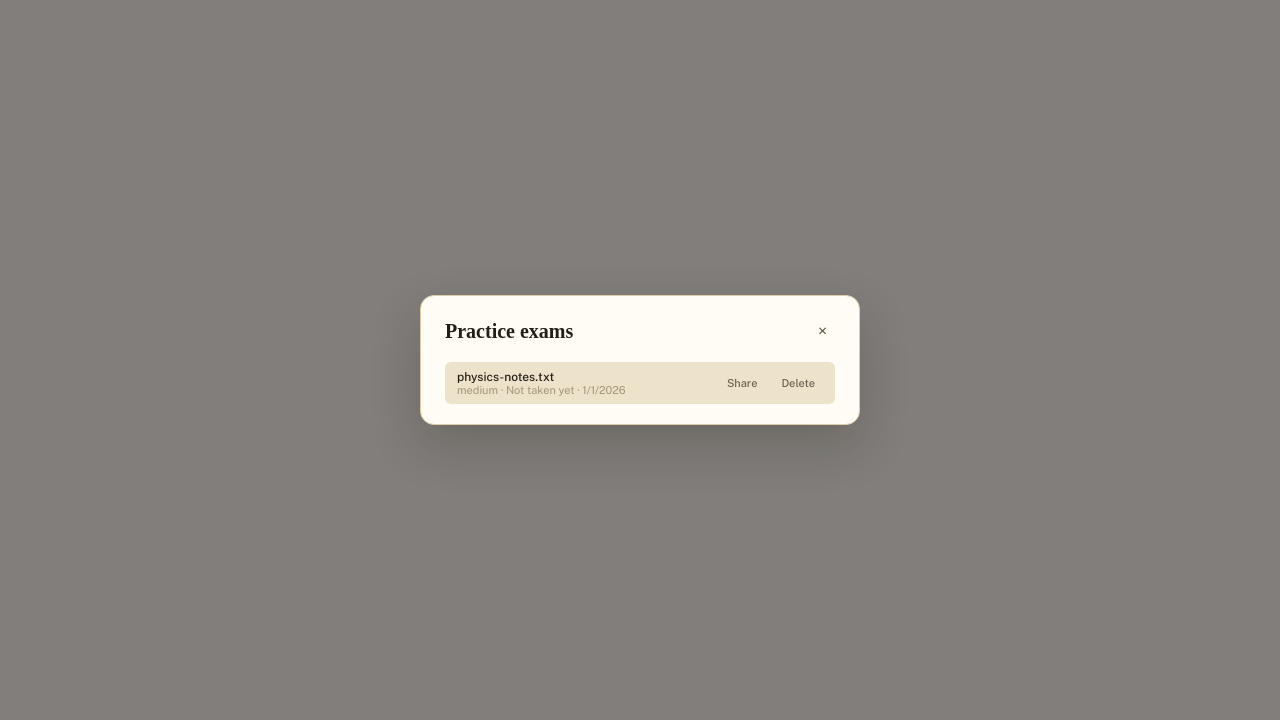
Scenario: PracticeExamsPanel › deleting an exam from the list removes it
Expected: the text "physics-notes.txt" is shown, [457,370,554,384]
Click the button with aria-label "delete exam: physics-notes.txt".
click(798, 383)  # box [773,373,823,393]
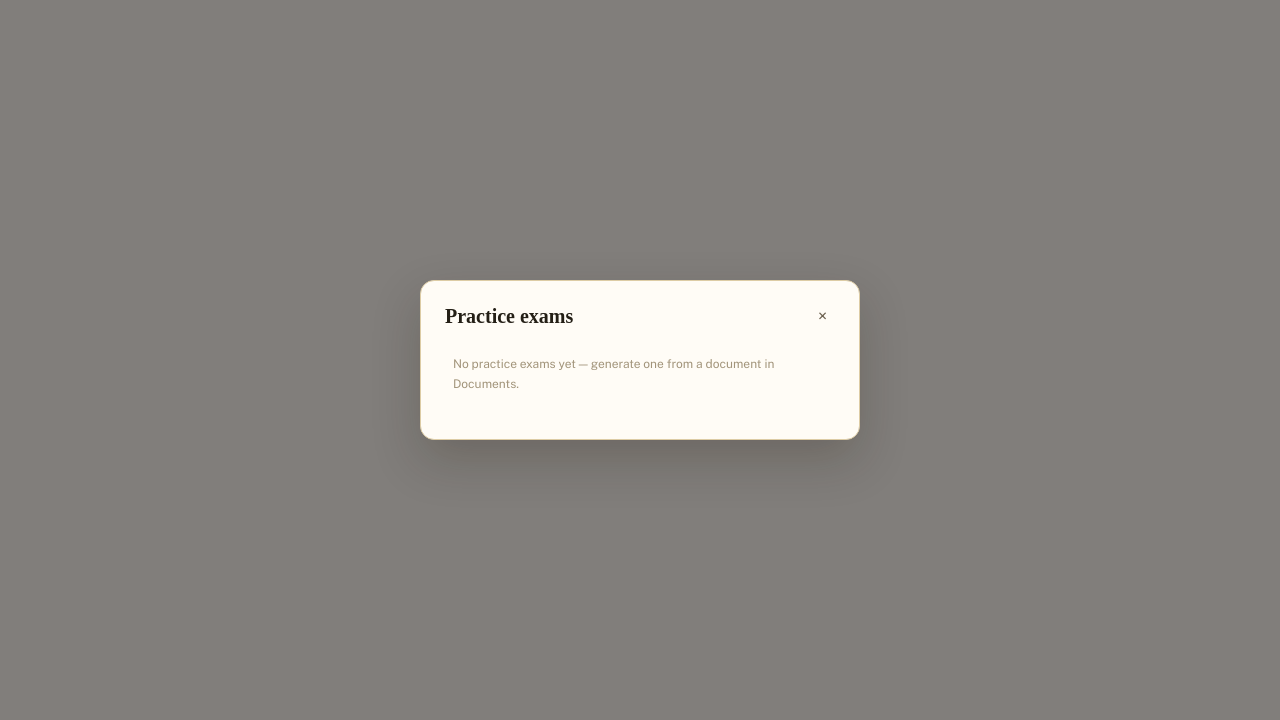
Expected: the button "physics-notes.txt" is gone
